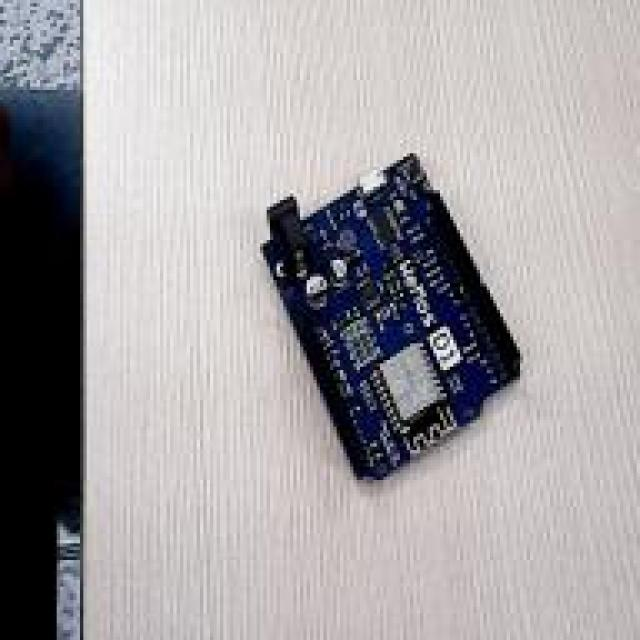Wemos: (264, 154, 518, 478)
